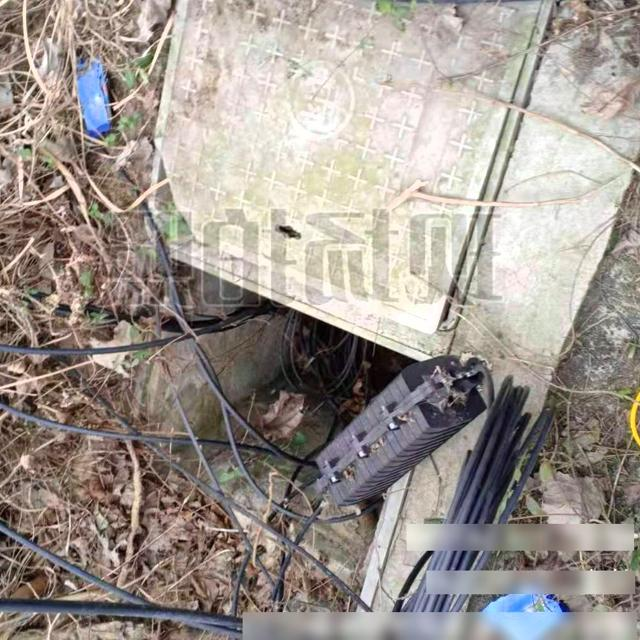lose: (115, 0, 561, 637)
